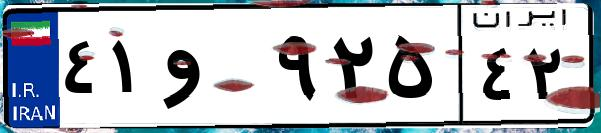1: (110, 28, 158, 98)
2: (330, 28, 385, 110), (525, 38, 570, 115)
4: (57, 26, 110, 100), (475, 38, 525, 113)
5: (385, 28, 445, 110)
9: (270, 28, 330, 110)
و: (158, 20, 270, 120)
